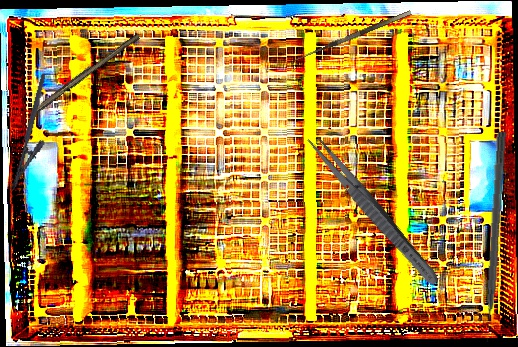Dressing Forceps: (302, 130, 444, 290)
Hook Surgical: (289, 10, 415, 70)
Needle Holder: (9, 73, 63, 195)
Pusher: (480, 131, 507, 343)
Scalpel Handle: (31, 30, 141, 116)
